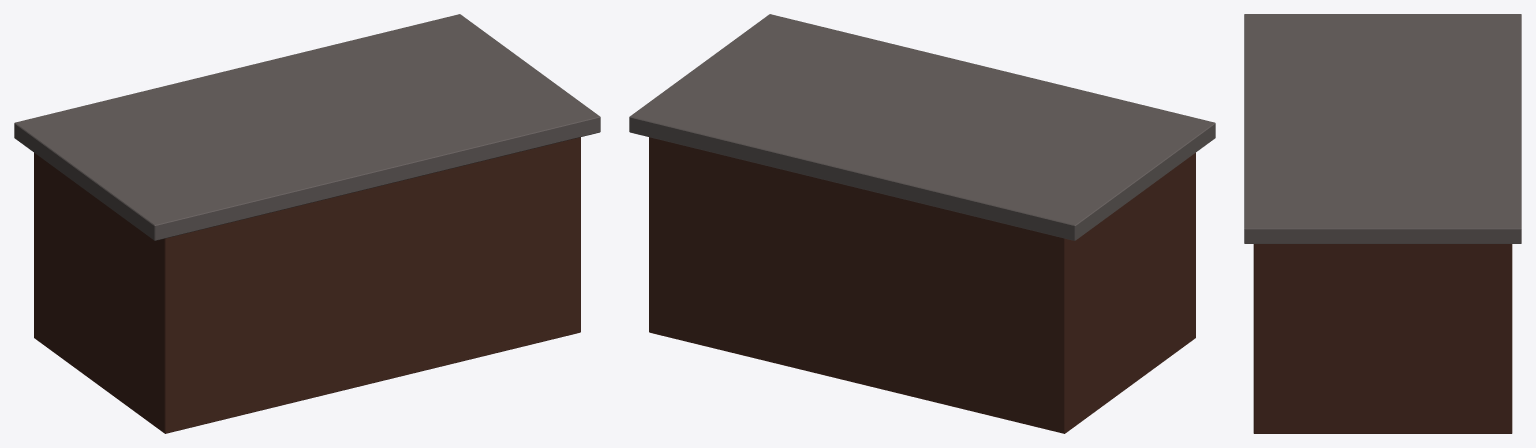
Rendered from ModernKitchenTable1.glb.
3 renders of one model, left to right at view 1: azimuth 30°, elevation 25°; view 2: azimuth 150°, elevation 25°; view 3: azimuth 270°, elevation 25°, orthographic.
Visible parts, largest first — view 1: ModernKitchenTable1; view 2: ModernKitchenTable1; view 3: ModernKitchenTable1.
Part boxes in pixels (x1,y1,x2,y2): ModernKitchenTable1: [14, 14, 600, 433]; ModernKitchenTable1: [629, 14, 1215, 433]; ModernKitchenTable1: [1244, 14, 1521, 433].
Bounding box in the file's own units: 2.12 × 0.9799 × 1.16.
